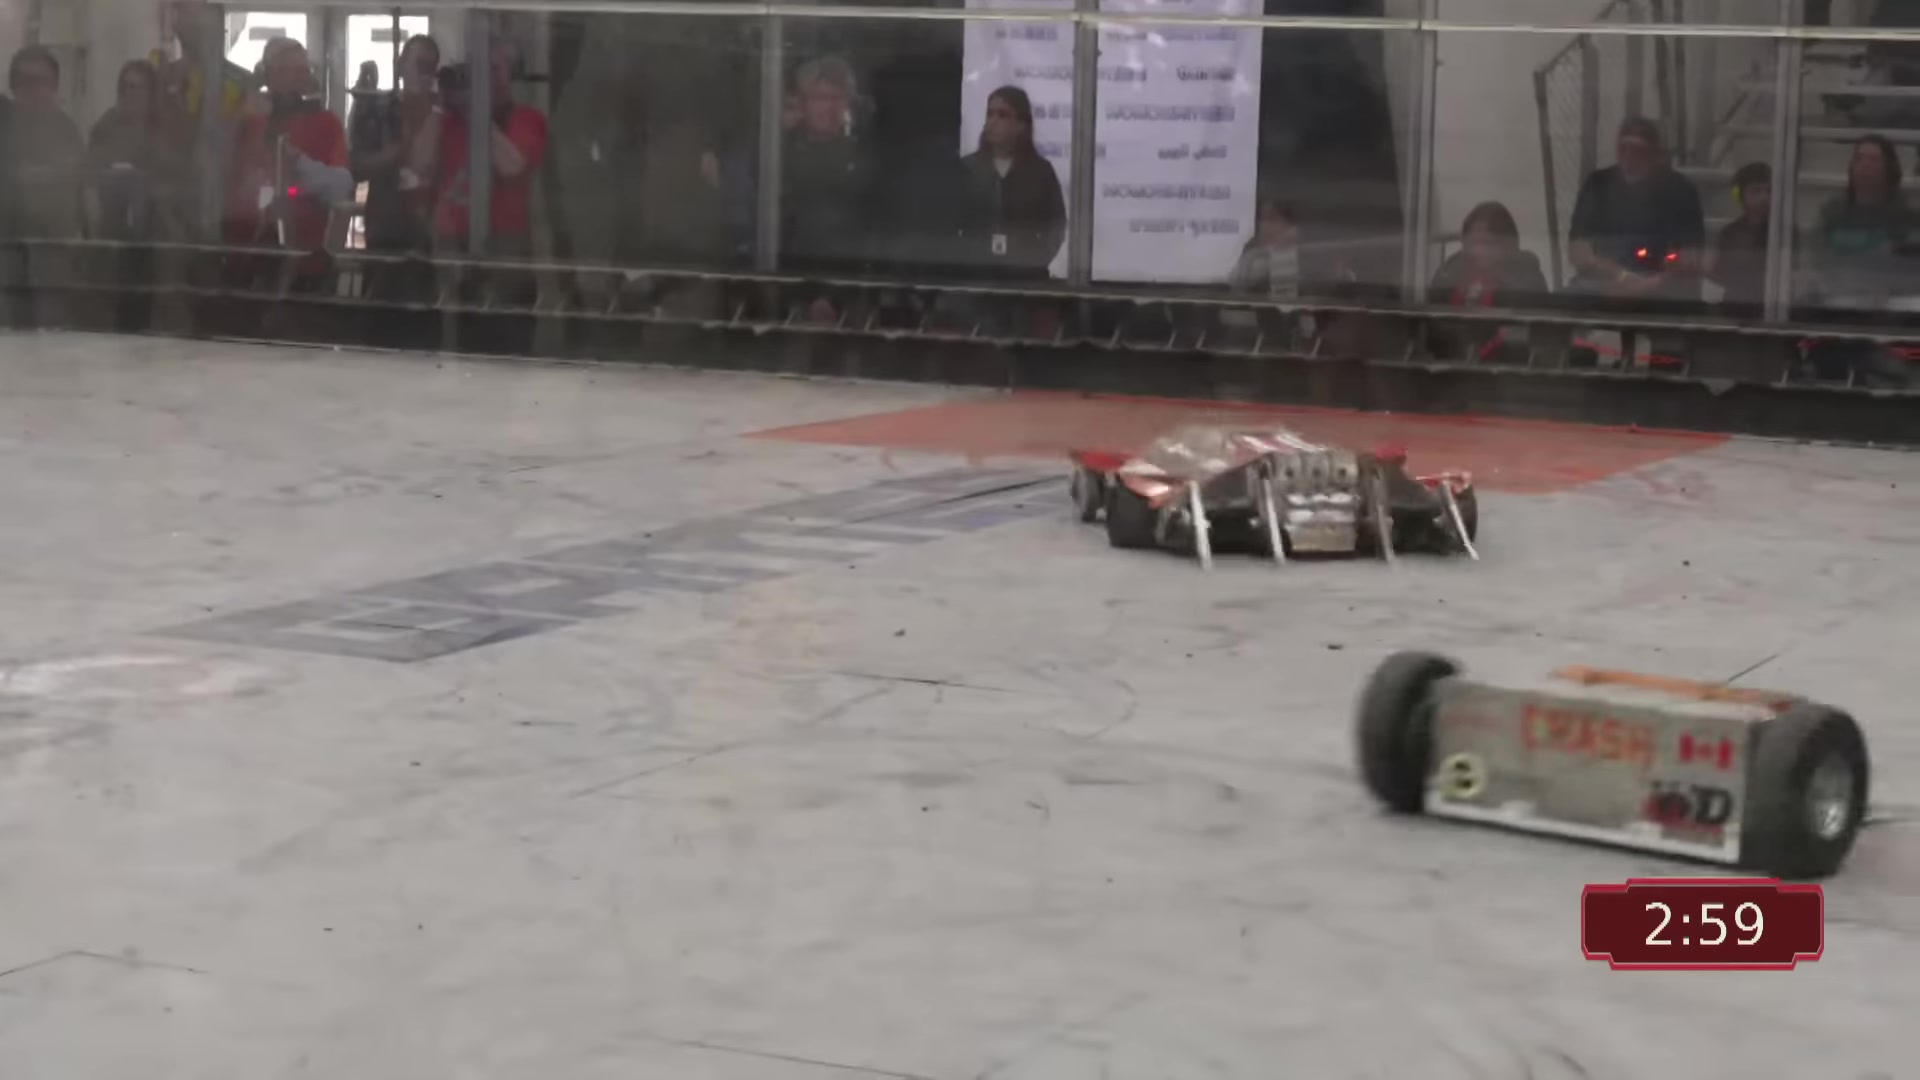combatbot: (1350, 647, 1875, 880), (1068, 422, 1487, 567)
